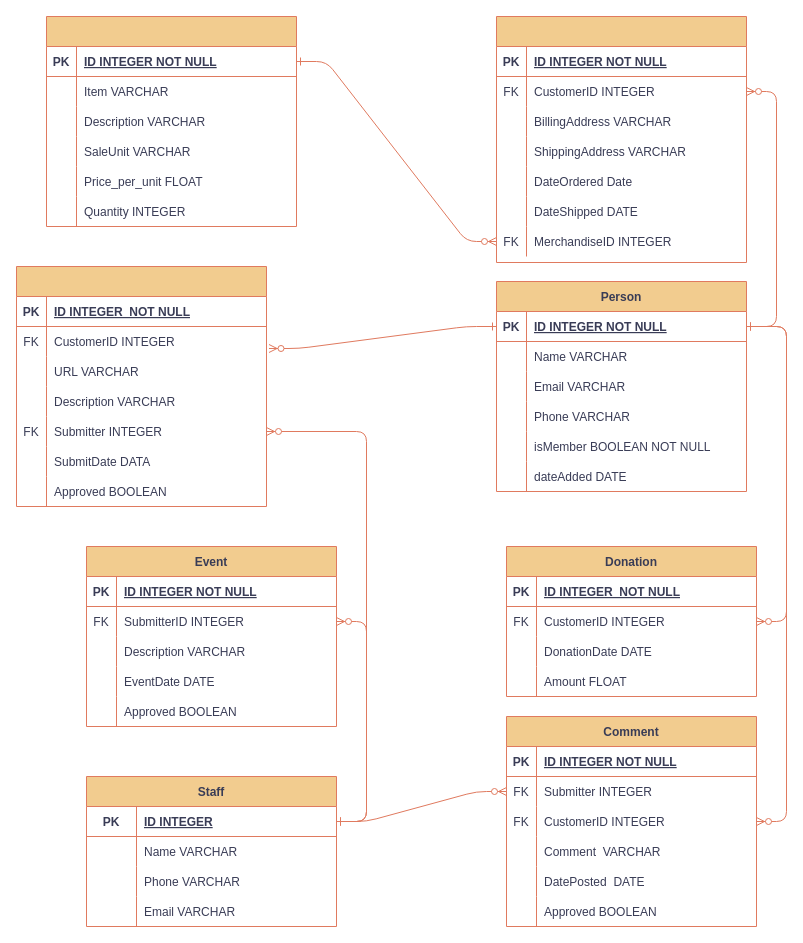
Image size: 803x943. Some labels were removed from this diagram. The box of each missing label's shape, as (x1, y1, x2, y2) in pixels:
Merchandise: (46, 16, 296, 226)
Resourse: (16, 266, 266, 506)
Sale: (496, 16, 746, 262)
